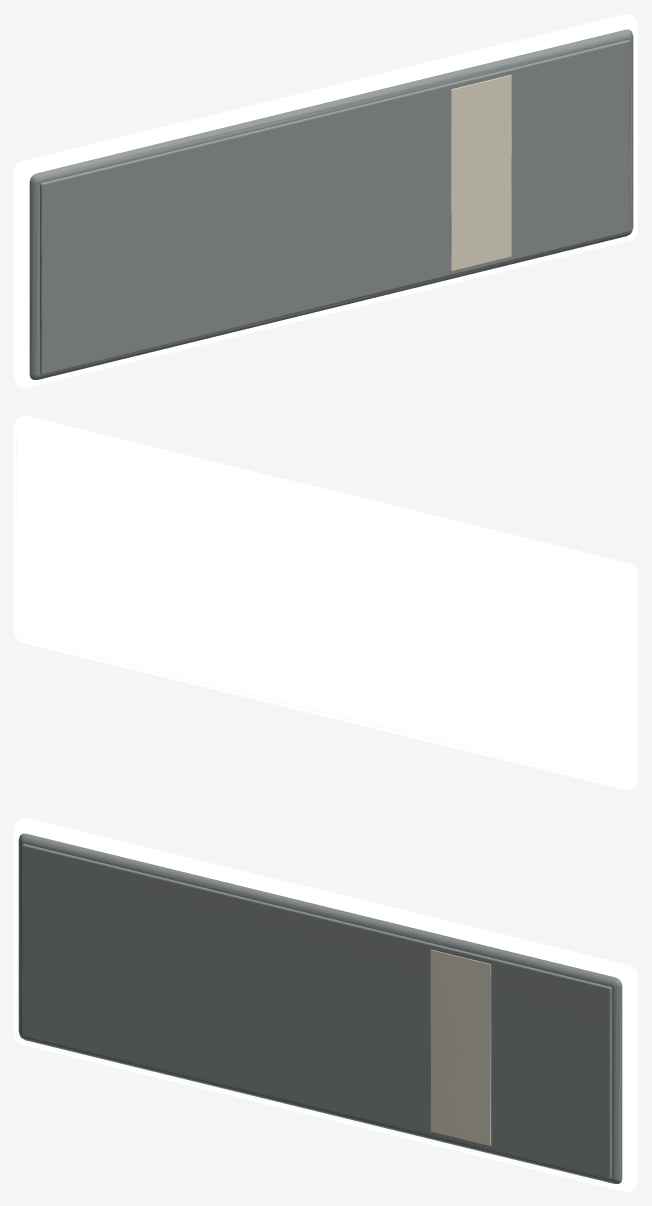
File: 13_advanced_mirror.glb
3 views of the same model, one above another, from view 1: azimuth 30°, elevation 25°; view 2: azimuth 150°, elevation 25°; view 3: azimuth 330°, elevation 25° (orthographic).
Visible parts, largest first — view 1: 13_advanced_mirror__Static; view 2: 13_advanced_mirror__Static; view 3: 13_advanced_mirror__Static.
Part boxes in pixels (x1=…): 13_advanced_mirror__Static: x1=14, y1=14, x2=637, y2=387; 13_advanced_mirror__Static: x1=14, y1=416, x2=637, y2=789; 13_advanced_mirror__Static: x1=14, y1=818, x2=637, y2=1191.
Size of the model in its own units: 2.25 by 0.78 by 0.098.
